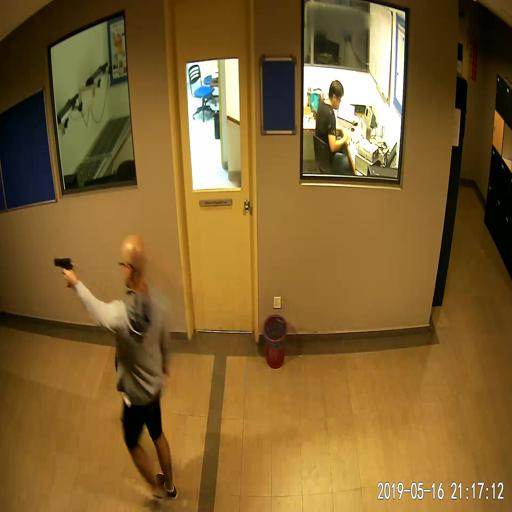pistol: (54, 256, 72, 288)
